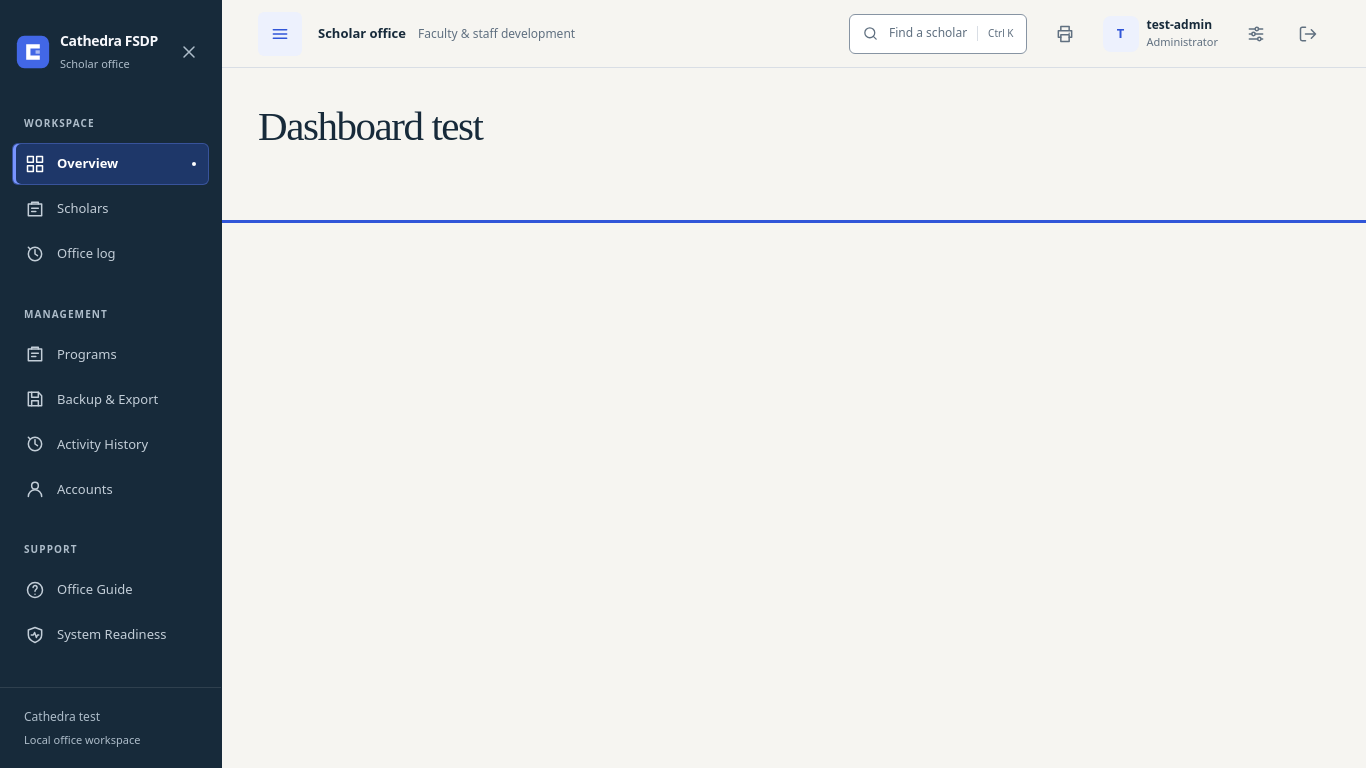
Test: resizing closes the drawer without losing the desktop preference
The width and height of the screenshot is (1366, 768).
Click the button named "Open menu" at (280,34), box [258,12,302,56]
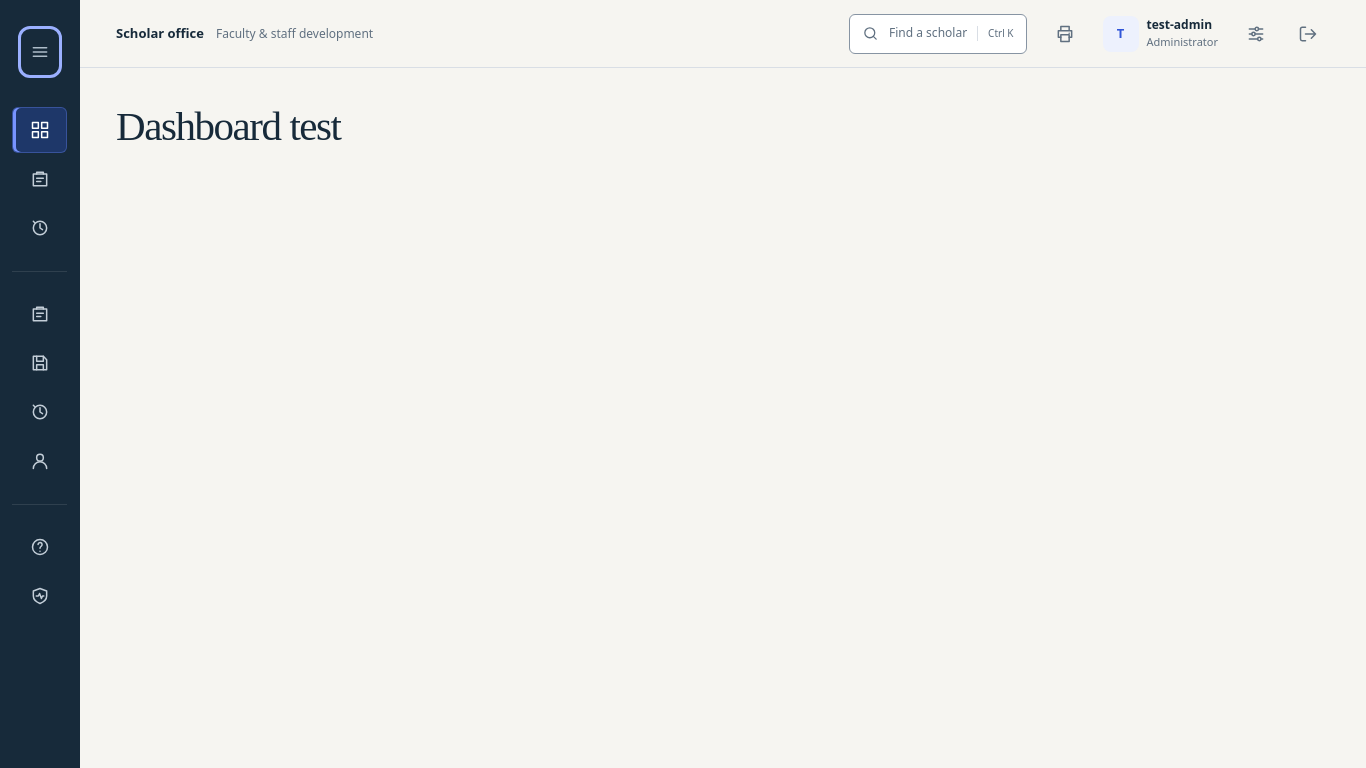
Expected: the button named "Expand sidebar" is shown, [24,32,56,72]
